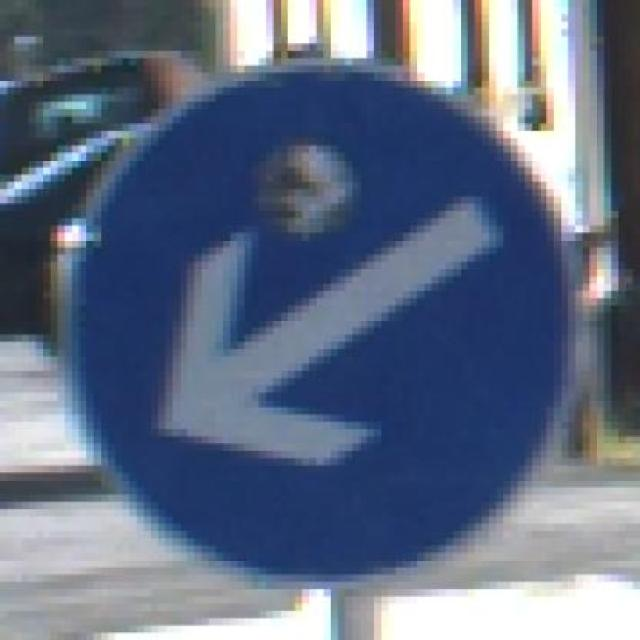Keep-Left: (65, 43, 597, 589)
